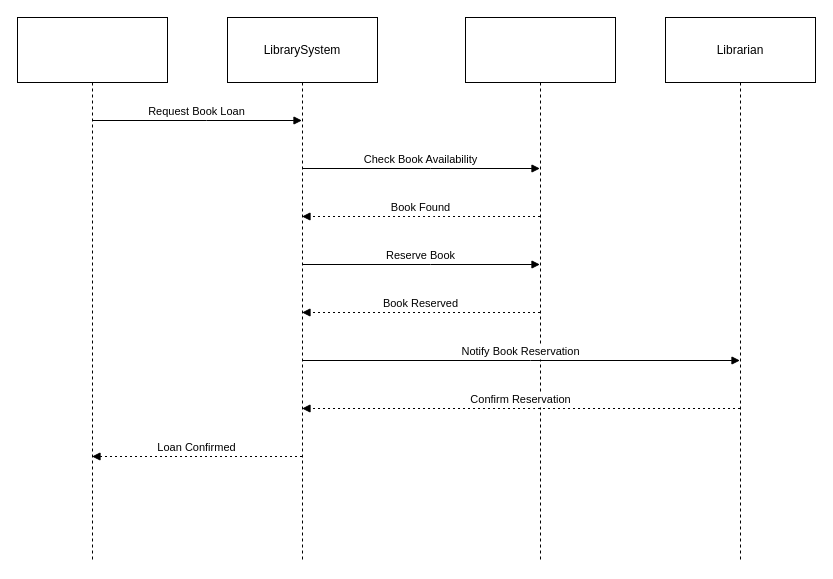
This 833x579 diagram has some shape labels left out. Each missing label, with the box of its shape:
LibraryDatabase: (464, 16, 616, 562)
User: (16, 16, 168, 562)
